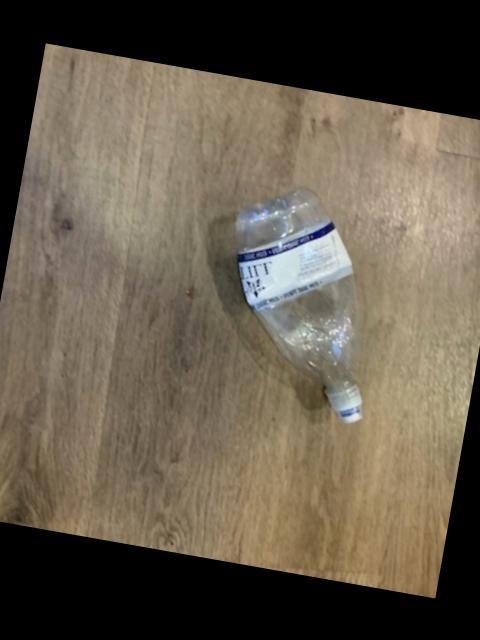plastic: (237, 190, 363, 424)
